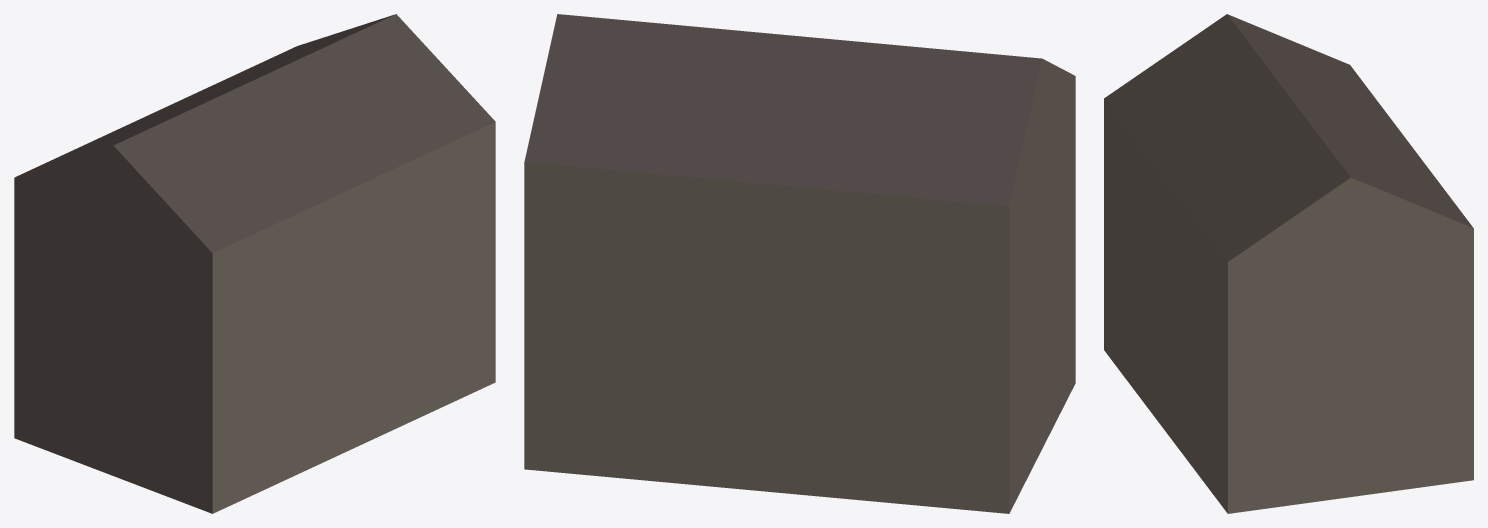
3 views of the same model, side by side, from view 1: azimuth 30°, elevation 25°; view 2: azimuth 150°, elevation 25°; view 3: azimuth 270°, elevation 25° (orthographic). The views are drawn at different scales.
Parts seen in each view (by area): view 1: HP-w408450719; view 2: HP-w408450719; view 3: HP-w408450719.
Boxes of the visible parts, bbox=[...] form: HP-w408450719: bbox=[14, 14, 495, 513]; HP-w408450719: bbox=[524, 14, 1075, 513]; HP-w408450719: bbox=[1104, 14, 1473, 513].
Bounding box in the file's own units: 10.08 × 7.61 × 7.98.
